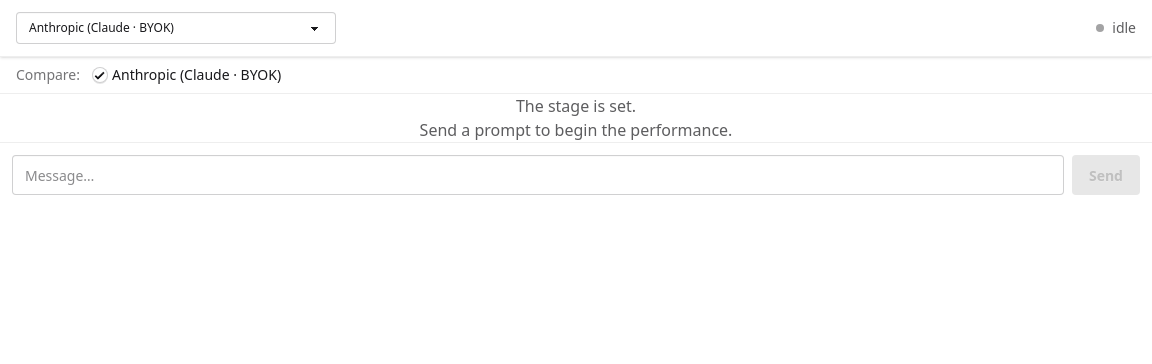
it: Stage › shows CompareView when >1 providers are selected and a prompt is sent
The image size is (1152, 364).
In the field with placeholder "Message…": (538, 175) [12,155,1064,195], type "Hello"
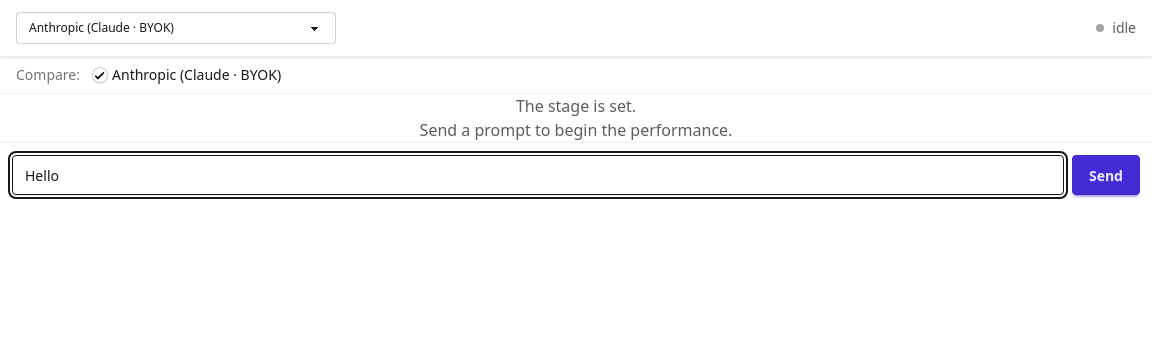
Click the button "Send": (1106, 175) [1072,155,1140,195]
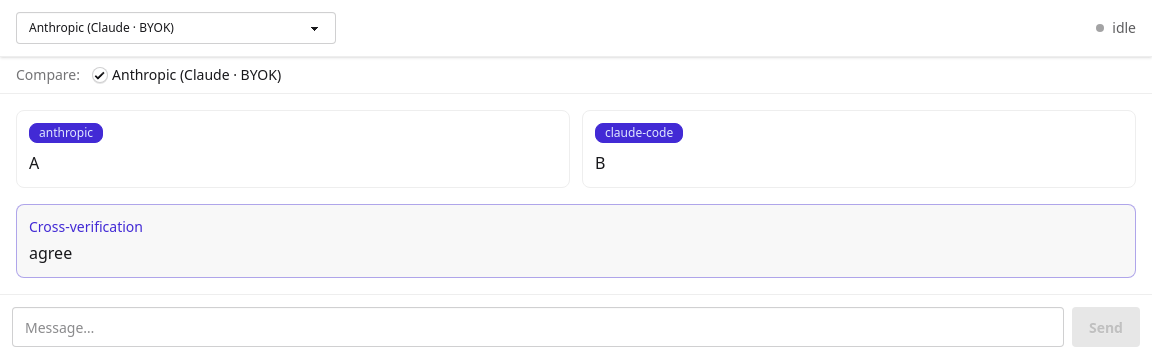
Result: the text "Cross-verification" is shown at [29,217,143,236]
Result: the text "anthropic" is shown at [29,123,103,143]
Result: the text "claude-code" is shown at [595,123,683,143]
